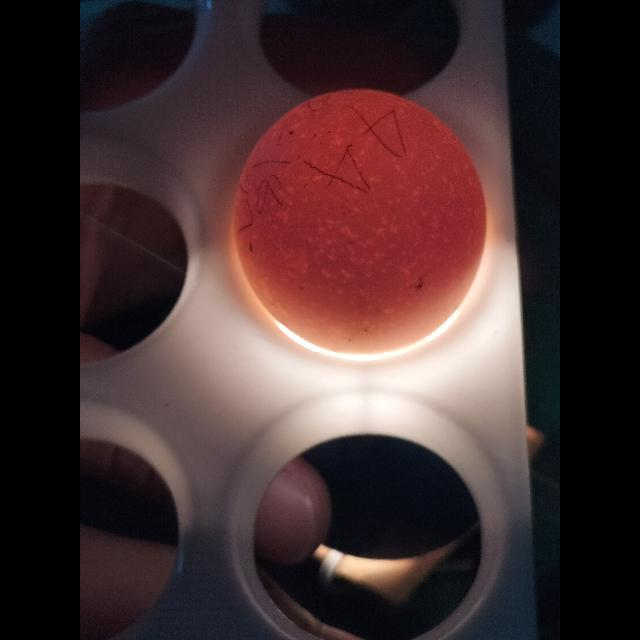Infertile: (238, 93, 478, 354)
